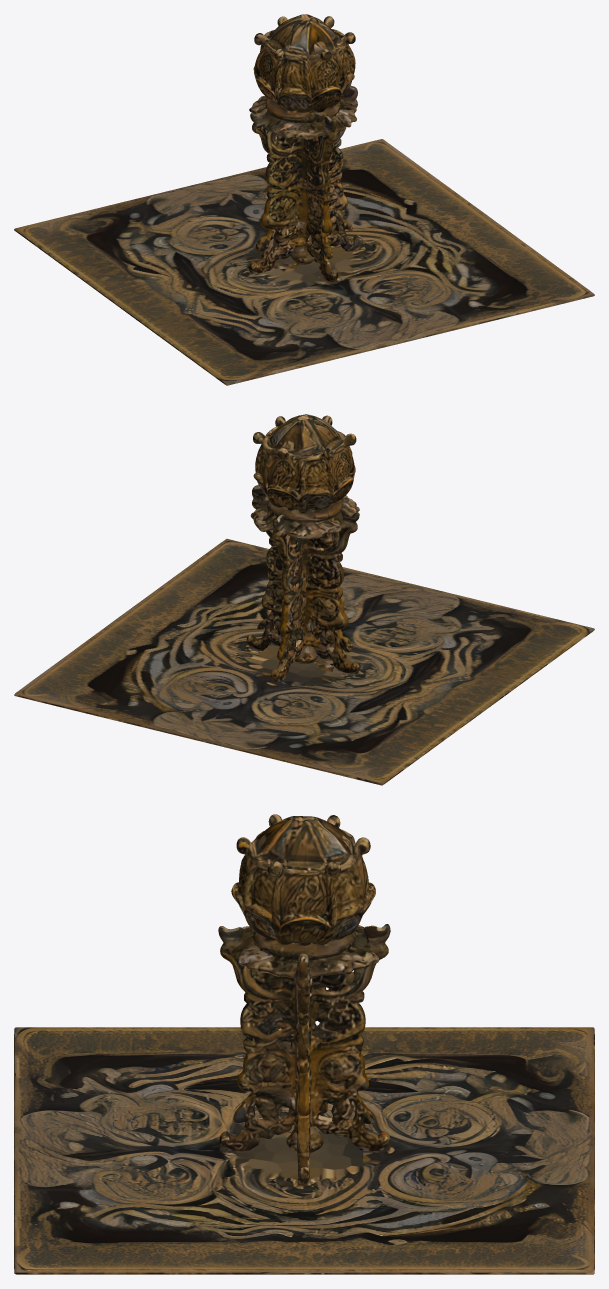
3 renders of one model, top to bottom at view 1: azimuth 30°, elevation 25°; view 2: azimuth 150°, elevation 25°; view 3: azimuth 270°, elevation 25°, orthographic. The views are drawn at different scales.
Parts seen in each view (by area): view 1: textured_mesh; view 2: textured_mesh; view 3: textured_mesh.
Boxes of the visible parts, box(x1,y1,x2,y2) form: textured_mesh: box(14, 14, 594, 385); textured_mesh: box(14, 414, 594, 785); textured_mesh: box(14, 814, 594, 1274).
Size of the model in its own units: 1.99 by 1.27 by 1.99.
Materials: 1 (1 with a texture image).
